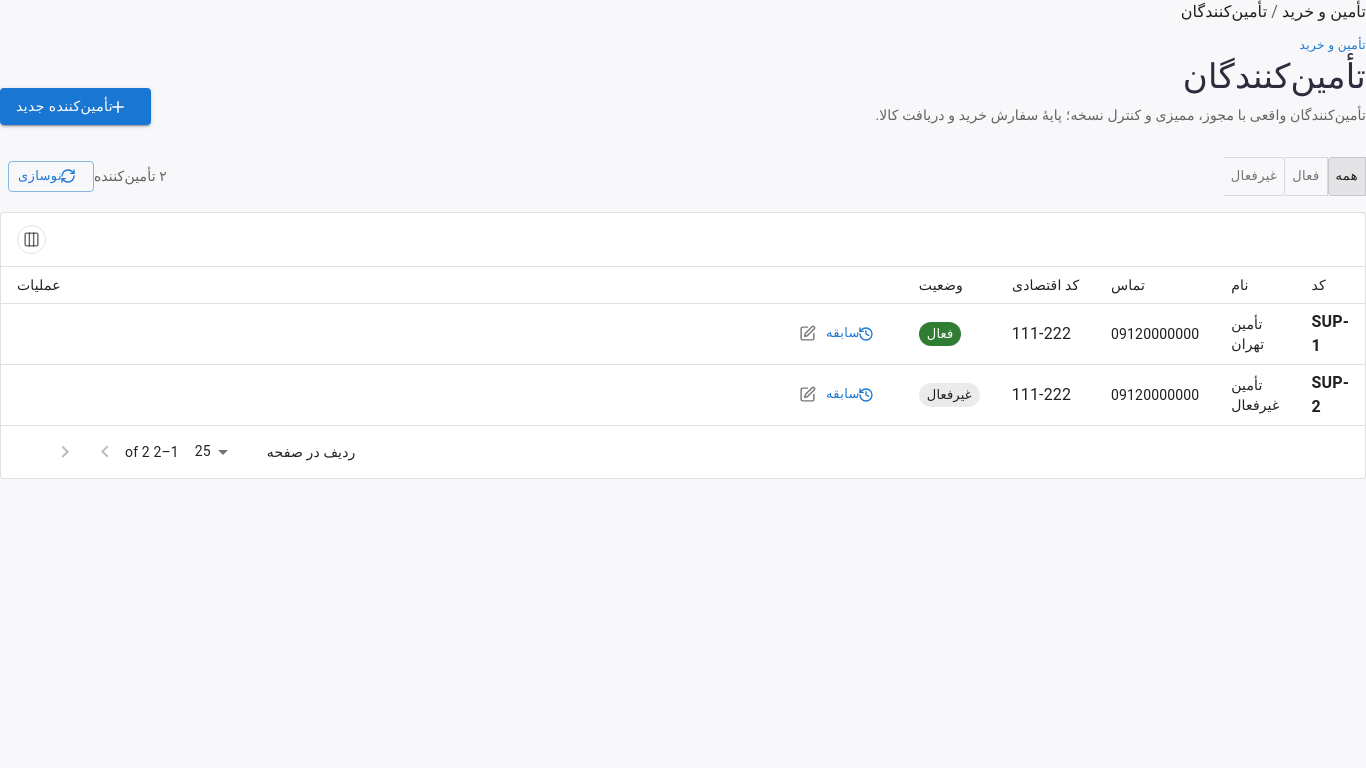
Test case: SuppliersView › loads audit history for the selected supplier
Expected: the text "تأمین تهران" is shown, x1=1215 y1=304 x2=1296 y2=365
Click the button "سابقه" in the row of "SUP-1" at (854, 334), box x1=821 y1=318 x2=887 y2=349
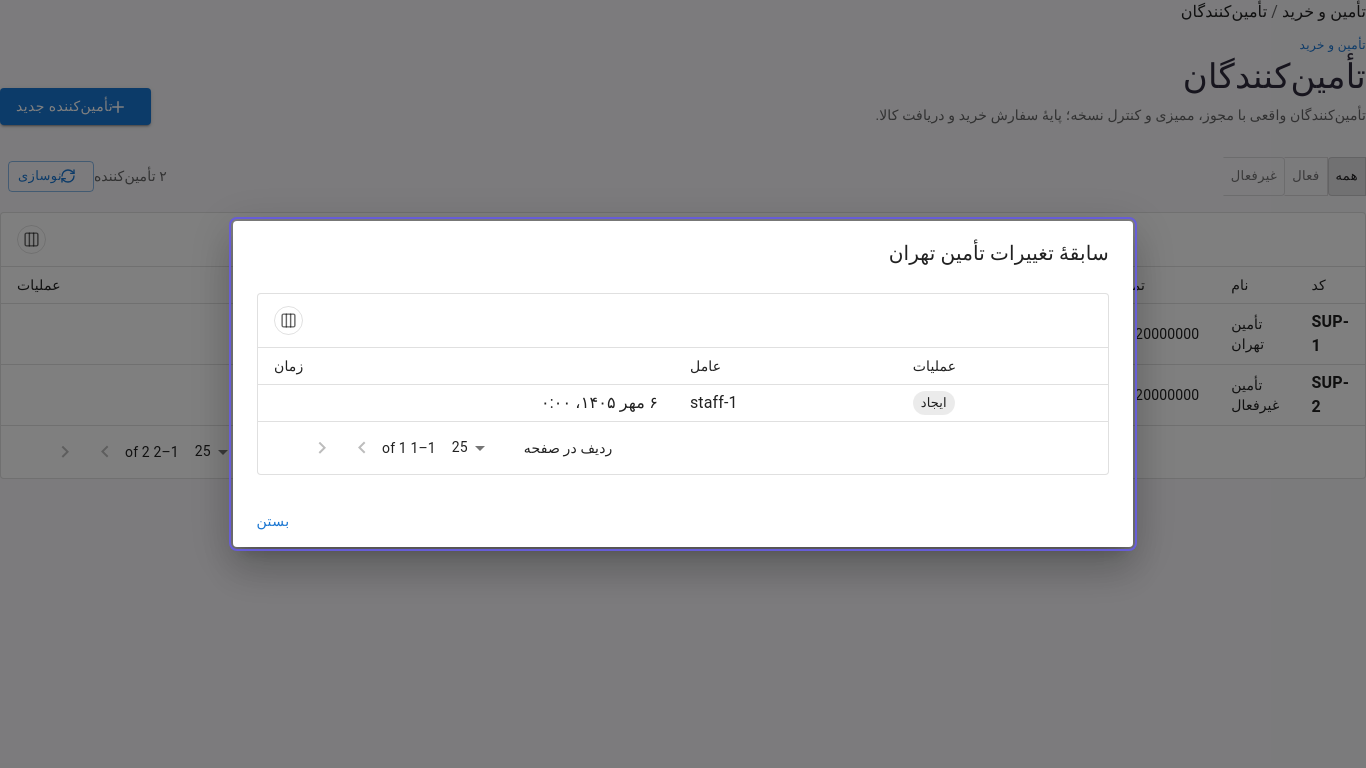
Now the text "ایجاد" is shown, box x1=921 y1=395 x2=947 y2=410
